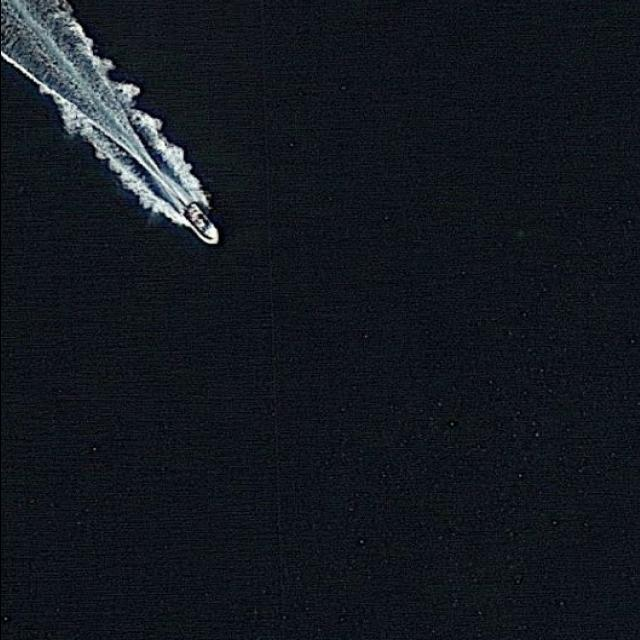ship: (178, 198, 228, 250)
